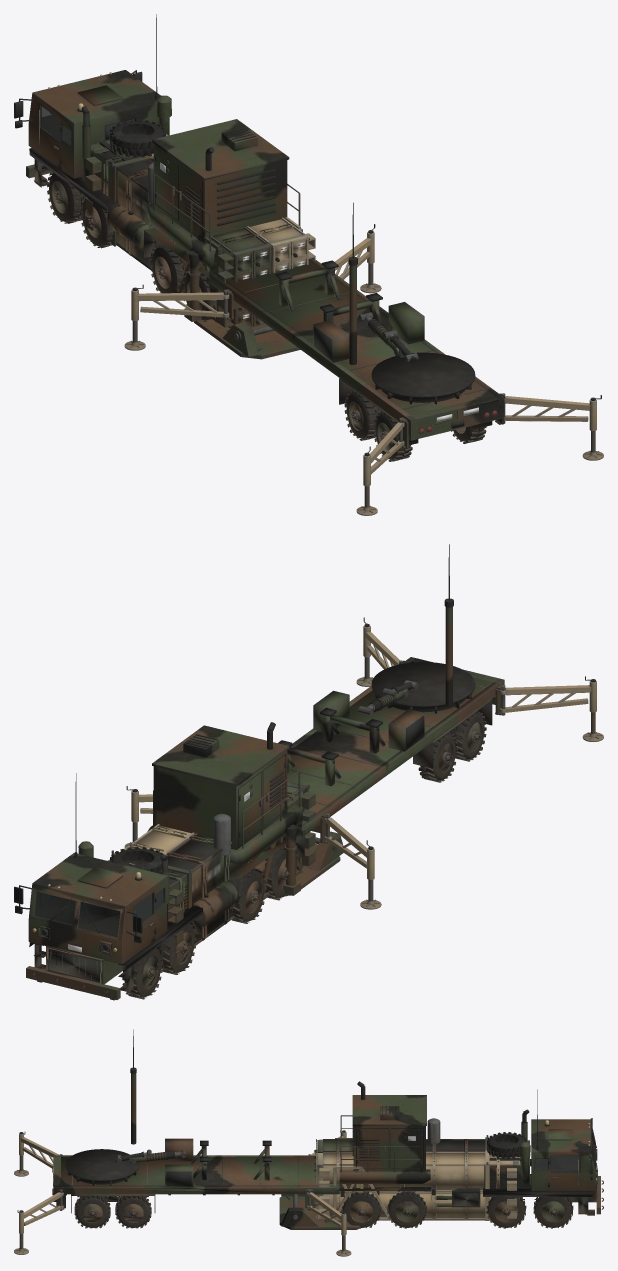
File: pac3_lo.glb
3 renders of one model, top to bottom at view 1: azimuth 30°, elevation 25°; view 2: azimuth 150°, elevation 25°; view 3: azimuth 270°, elevation 25°, orthographic. The views are drawn at different scales.
Parts seen in each view (by area): view 1: body|P3_A, body|P3_W, cradle|P3_B, turret|P3_A, jack0|P3_A, jack3|P3_A, jack2|P3_A, body|P3_C, jack1|P3_A, cradle|P3_C, mast0|P3_A, body|glass; view 2: body|P3_A, body|P3_W, cradle|P3_B, body|glass, jack2|P3_A, body|P3_C, turret|P3_A, jack0|P3_A, cradle|P3_C, jack3|P3_A, mast0|P3_A, jack1|P3_A; view 3: body|P3_A, body|P3_W, cradle|P3_B, turret|P3_A, jack3|P3_A, jack1|P3_A, jack2|P3_A, body|glass, body|P3_C, mast0|P3_A.
Part boxes in pixels (left/top/right/bottom): body|P3_A: left=28, top=70, right=505, bottom=461; body|P3_W: left=26, top=95, right=216, bottom=321; cradle|P3_B: left=85, top=133, right=315, bottom=331; turret|P3_A: left=184, top=250, right=300, bottom=359; jack0|P3_A: left=124, top=284, right=229, bottom=350; jack3|P3_A: left=501, top=393, right=603, bottom=460; jack2|P3_A: left=356, top=418, right=404, bottom=515; body|P3_C: left=14, top=14, right=158, bottom=163; jack1|P3_A: left=335, top=224, right=381, bottom=293; cradle|P3_C: left=103, top=153, right=291, bottom=311; mast0|P3_A: left=348, top=256, right=357, bottom=364; body|glass: left=41, top=106, right=134, bottom=144; body|P3_A: left=28, top=657, right=505, bottom=964; body|P3_W: left=26, top=829, right=304, bottom=1000; cradle|P3_B: left=107, top=781, right=315, bottom=962; body|glass: left=36, top=889, right=163, bottom=950; jack2|P3_A: left=500, top=676, right=603, bottom=741; body|P3_C: left=14, top=773, right=156, bottom=954; turret|P3_A: left=282, top=824, right=343, bottom=895; jack0|P3_A: left=324, top=813, right=381, bottom=909; cradle|P3_C: left=109, top=791, right=297, bottom=937; jack3|P3_A: left=356, top=617, right=402, bottom=686; mast0|P3_A: left=444, top=598, right=453, bottom=706; jack1|P3_A: left=124, top=786, right=152, bottom=847; body|P3_A: left=52, top=1081, right=595, bottom=1228; body|P3_W: left=337, top=1109, right=603, bottom=1228; cradle|P3_B: left=314, top=1135, right=520, bottom=1222; turret|P3_A: left=279, top=1194, right=365, bottom=1229; jack3|P3_A: left=14, top=1189, right=63, bottom=1254; jack1|P3_A: left=307, top=1189, right=351, bottom=1256; jack2|P3_A: left=14, top=1132, right=62, bottom=1176; body|glass: left=535, top=1131, right=594, bottom=1171; body|P3_C: left=536, top=1089, right=597, bottom=1186; mast0|P3_A: left=130, top=1067, right=136, bottom=1144.
Size of the model in its own units: 6.62 by 5.97 by 18.76.
Materials: 20 (19 with a texture image).
